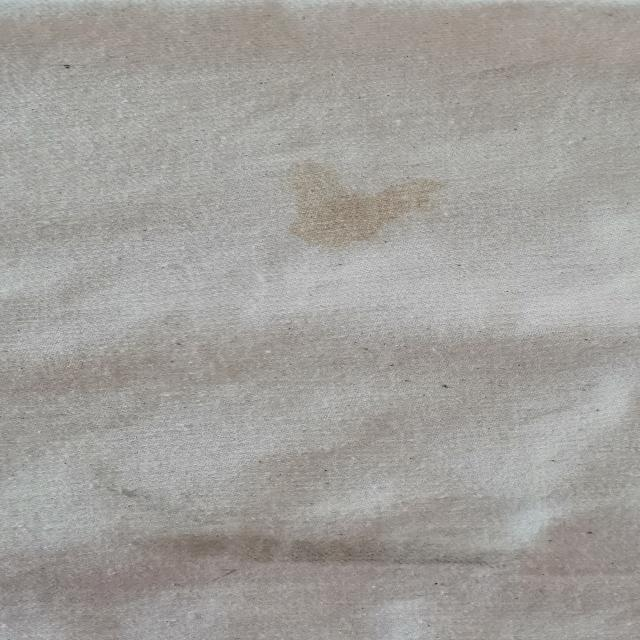taaaches: (96, 518, 573, 582), (235, 148, 466, 262), (60, 454, 186, 502)
